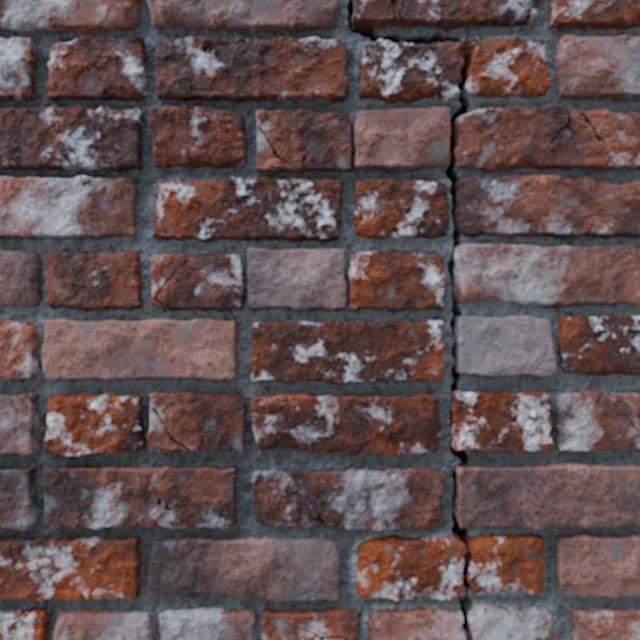broken_brick: (356, 534, 466, 601), (359, 39, 463, 104), (467, 36, 551, 97), (468, 534, 545, 594), (367, 607, 465, 639), (469, 603, 556, 639)
crack: (349, 0, 639, 639), (155, 36, 348, 102), (148, 535, 339, 601), (43, 465, 236, 530), (250, 320, 444, 384), (252, 466, 443, 531), (152, 177, 341, 241), (250, 393, 441, 456), (41, 319, 238, 380), (0, 105, 143, 171), (0, 536, 140, 601), (0, 176, 137, 238), (43, 393, 144, 457), (47, 36, 147, 100), (148, 105, 247, 168), (146, 0, 337, 32), (247, 248, 346, 309), (256, 109, 351, 172), (147, 392, 245, 453), (45, 249, 142, 310), (348, 250, 444, 310), (354, 179, 449, 239), (150, 252, 245, 310), (556, 533, 639, 597), (555, 35, 639, 98), (553, 389, 639, 450), (557, 315, 639, 375), (0, 0, 141, 33), (159, 607, 255, 639), (261, 608, 358, 639), (54, 610, 154, 639), (547, 0, 639, 29), (0, 467, 39, 530), (0, 393, 39, 454), (0, 319, 39, 380), (0, 37, 37, 101), (0, 250, 42, 306), (570, 607, 639, 639), (0, 608, 50, 639)
